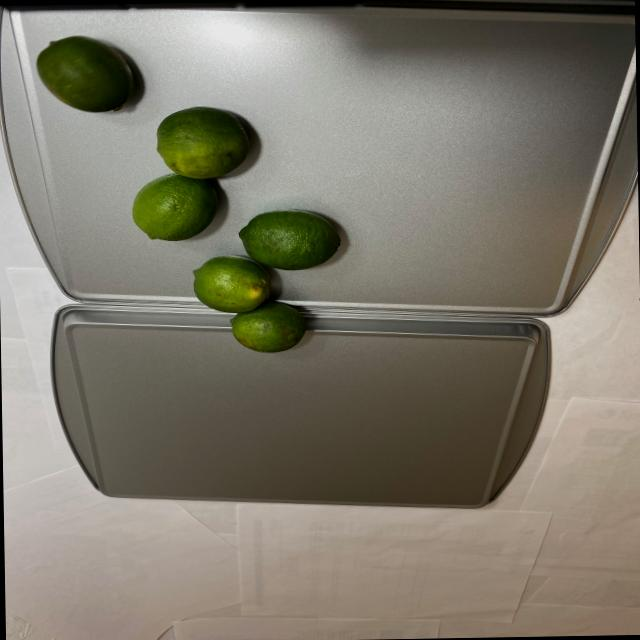lemon: (36, 32, 347, 360)
